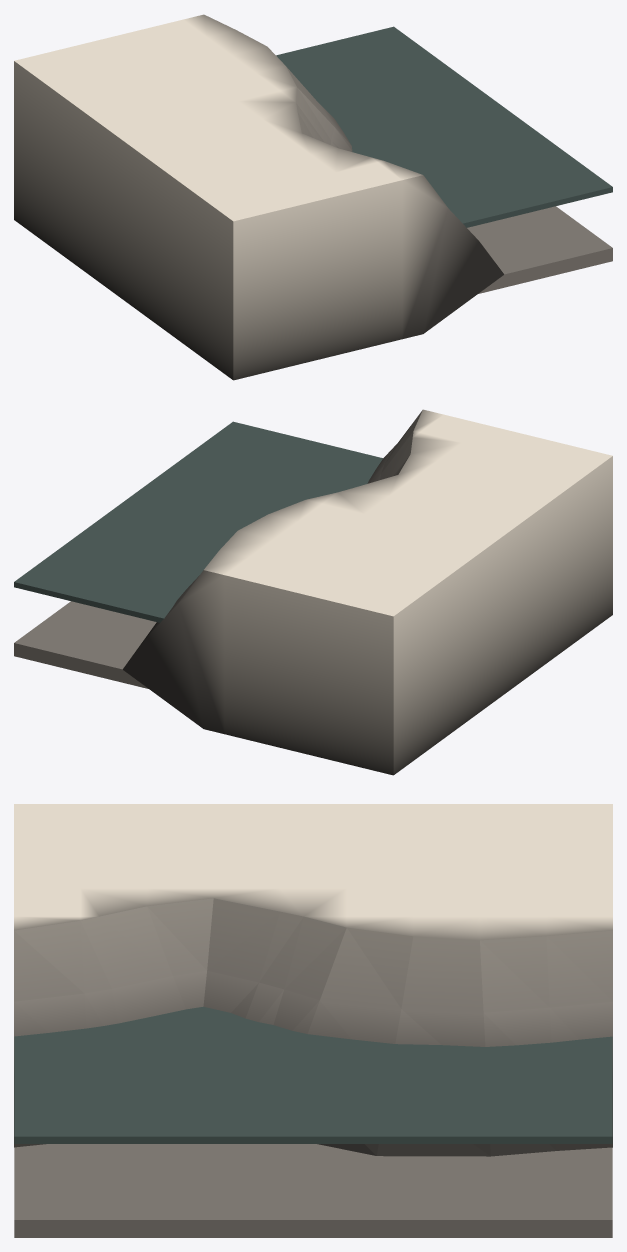
File: SM_VKI_Ground_Stream_OXXO_Q00.fbx
3 views of the same model, one above another, from view 1: azimuth 30°, elevation 25°; view 2: azimuth 150°, elevation 25°; view 3: azimuth 270°, elevation 25° (orthographic). The views are drawn at different scales.
Visible parts, largest first — view 1: SM_VKI_Ground_Stream_OXXO_Q00.001; view 2: SM_VKI_Ground_Stream_OXXO_Q00.001; view 3: SM_VKI_Ground_Stream_OXXO_Q00.001.
Part boxes in pixels (left/top/right/bottom): SM_VKI_Ground_Stream_OXXO_Q00.001: left=14, top=14, right=612, bottom=380; SM_VKI_Ground_Stream_OXXO_Q00.001: left=14, top=409, right=612, bottom=775; SM_VKI_Ground_Stream_OXXO_Q00.001: left=14, top=804, right=612, bottom=1237.
Bounding box in the file's own units: 1.5 × 0.6 × 1.5.
